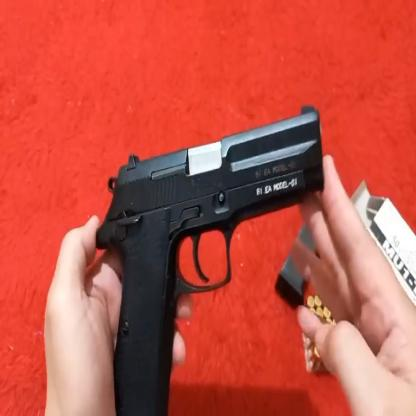handgun: (104, 92, 332, 416)
